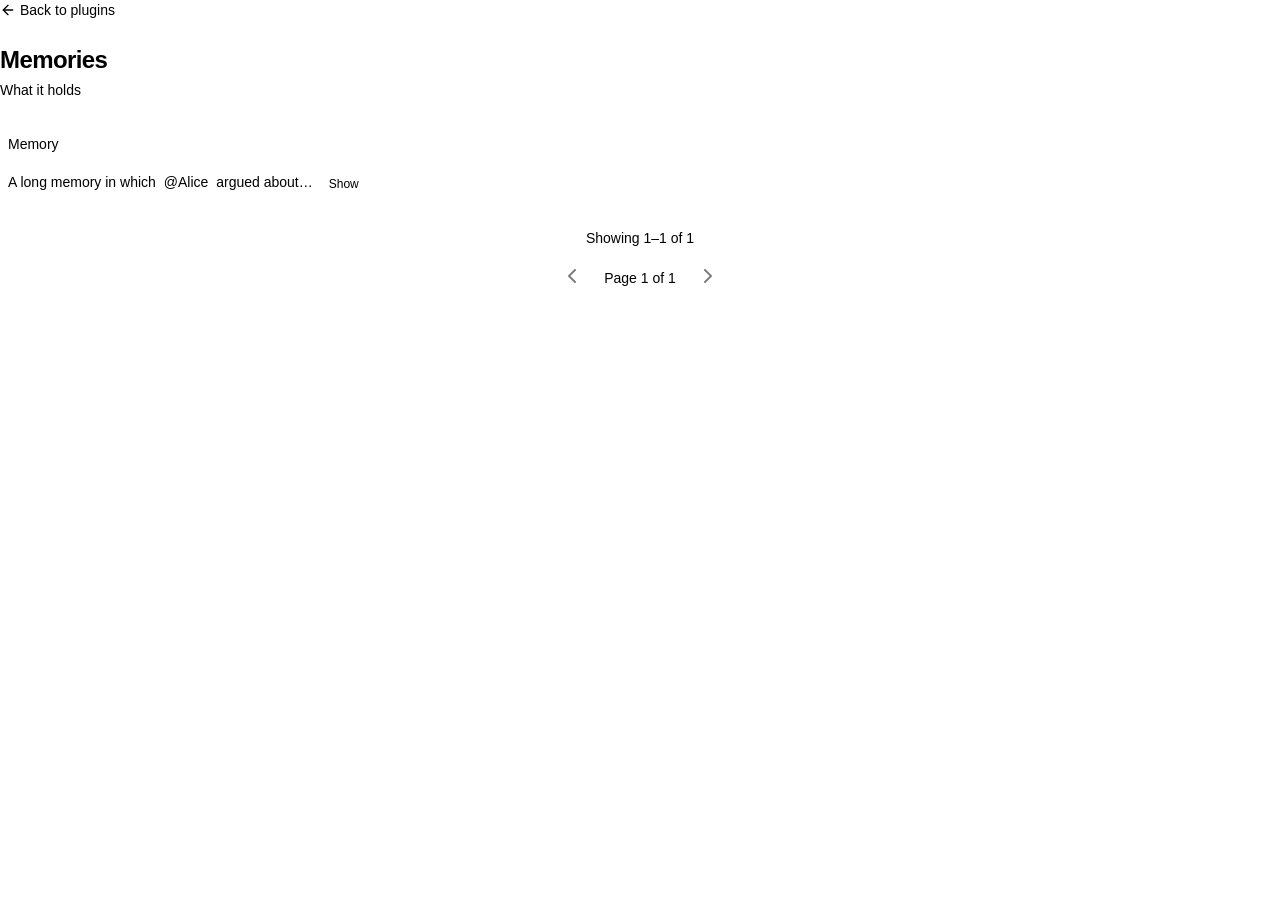
Scenario: a long text cell in a plugin page › shows the preview in the table and the whole memory in a dialog
This screenshot has width=1280, height=900.
Expected: the text "A long memory in which @Alice argued about…" is shown, [8,172,313,192]
Click the button "Show".
click(344, 184)  # box [321,172,367,196]
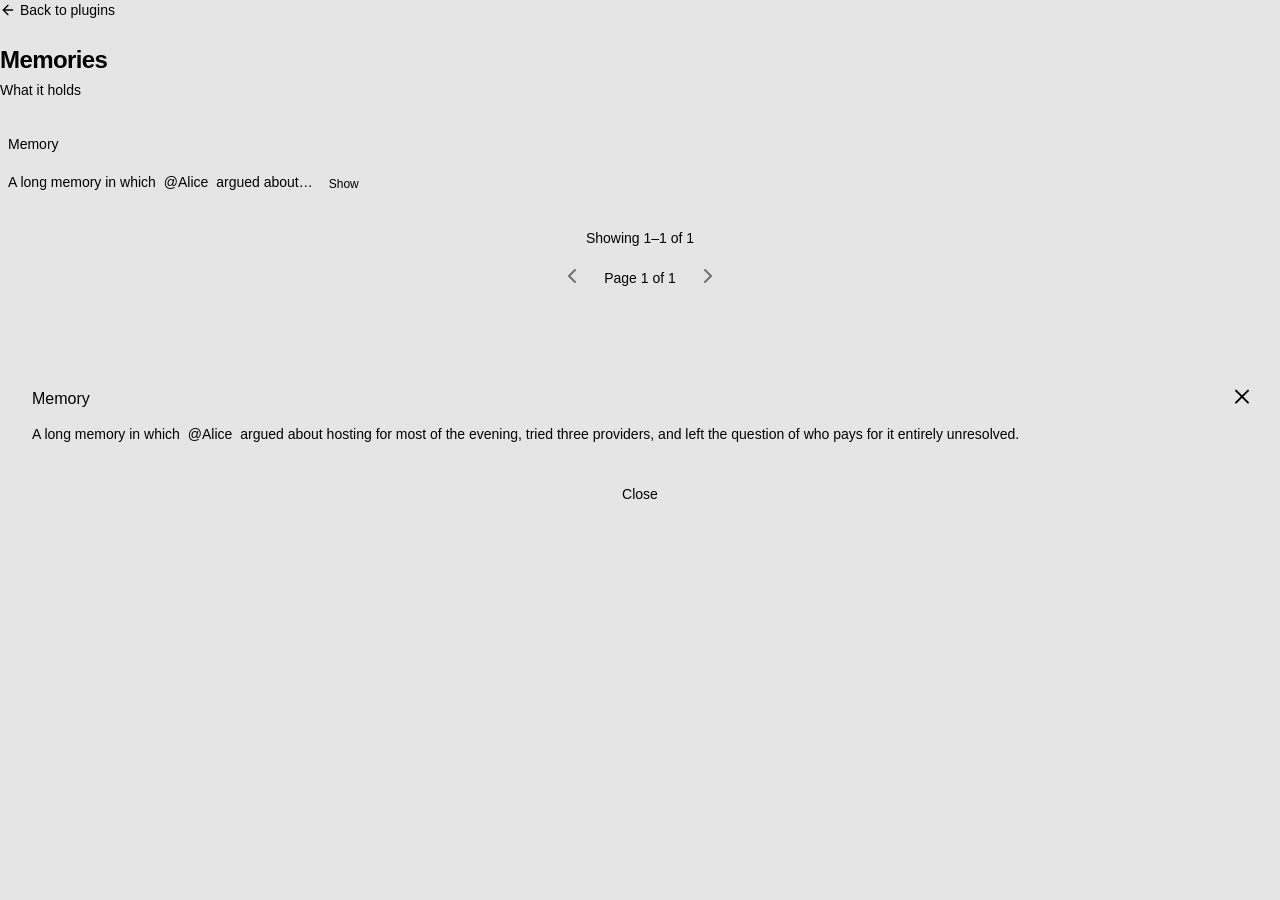
Expected: the text "entirely unresolved" is shown, [236,426,1019,442]
Expected: the heading "Memory" is shown, [32,390,90,407]
Expected: the text "@Alice" is shown, [188,426,232,442]
